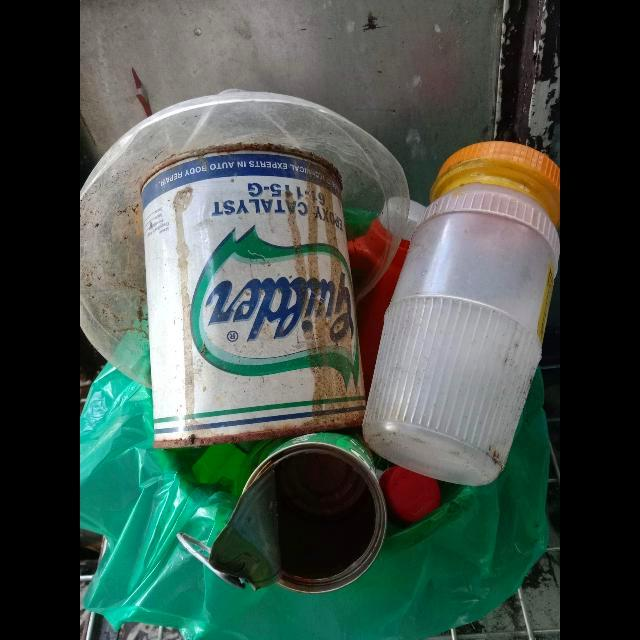aluminum: (140, 144, 367, 450), (176, 432, 388, 594)
plastic_bottle: (362, 142, 560, 488), (348, 197, 426, 395), (379, 466, 441, 526)
